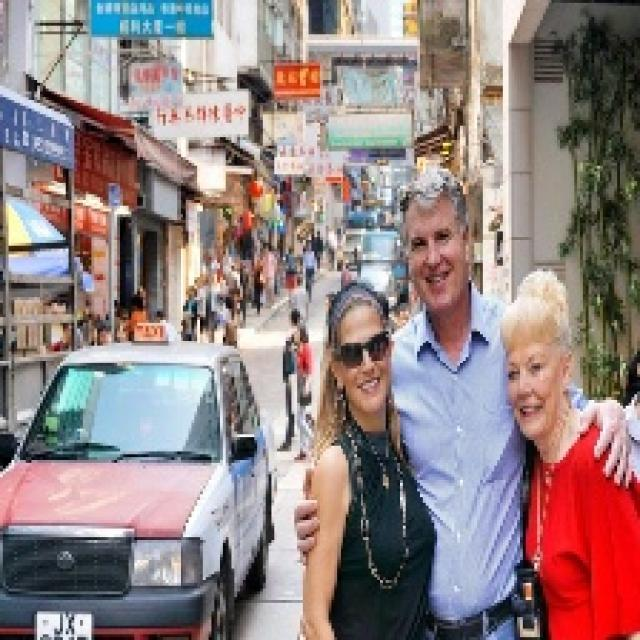car: (2, 335, 278, 610)
